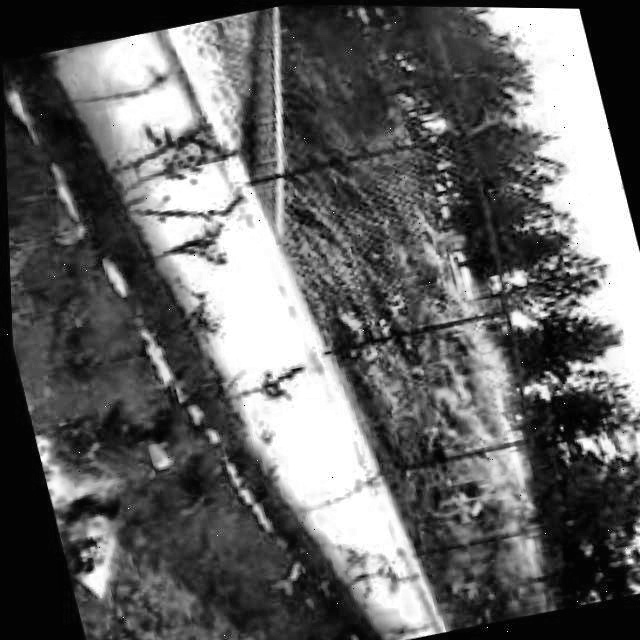Fire: (34, 439, 137, 588)
